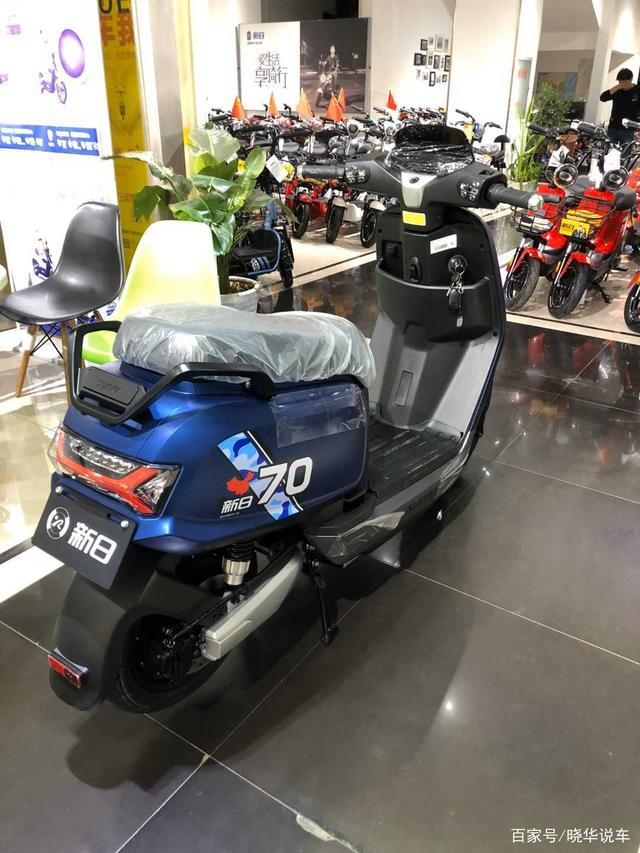电动车: (35, 148, 574, 762)
